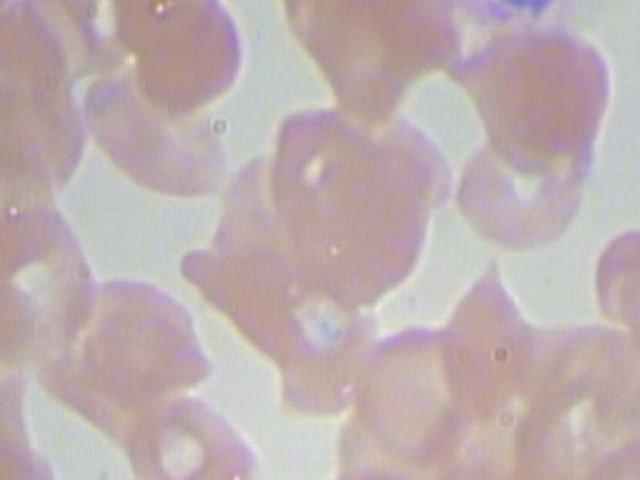RBC: (271, 132, 428, 310), (447, 22, 628, 168), (345, 304, 488, 473), (80, 53, 241, 203), (420, 257, 553, 424), (446, 117, 597, 258), (0, 210, 110, 379), (291, 0, 423, 134), (124, 0, 246, 119), (117, 377, 254, 480), (585, 217, 640, 384), (158, 431, 280, 480), (570, 421, 640, 480), (90, 0, 213, 24), (636, 29, 640, 201)
WBC: (315, 0, 640, 35)
